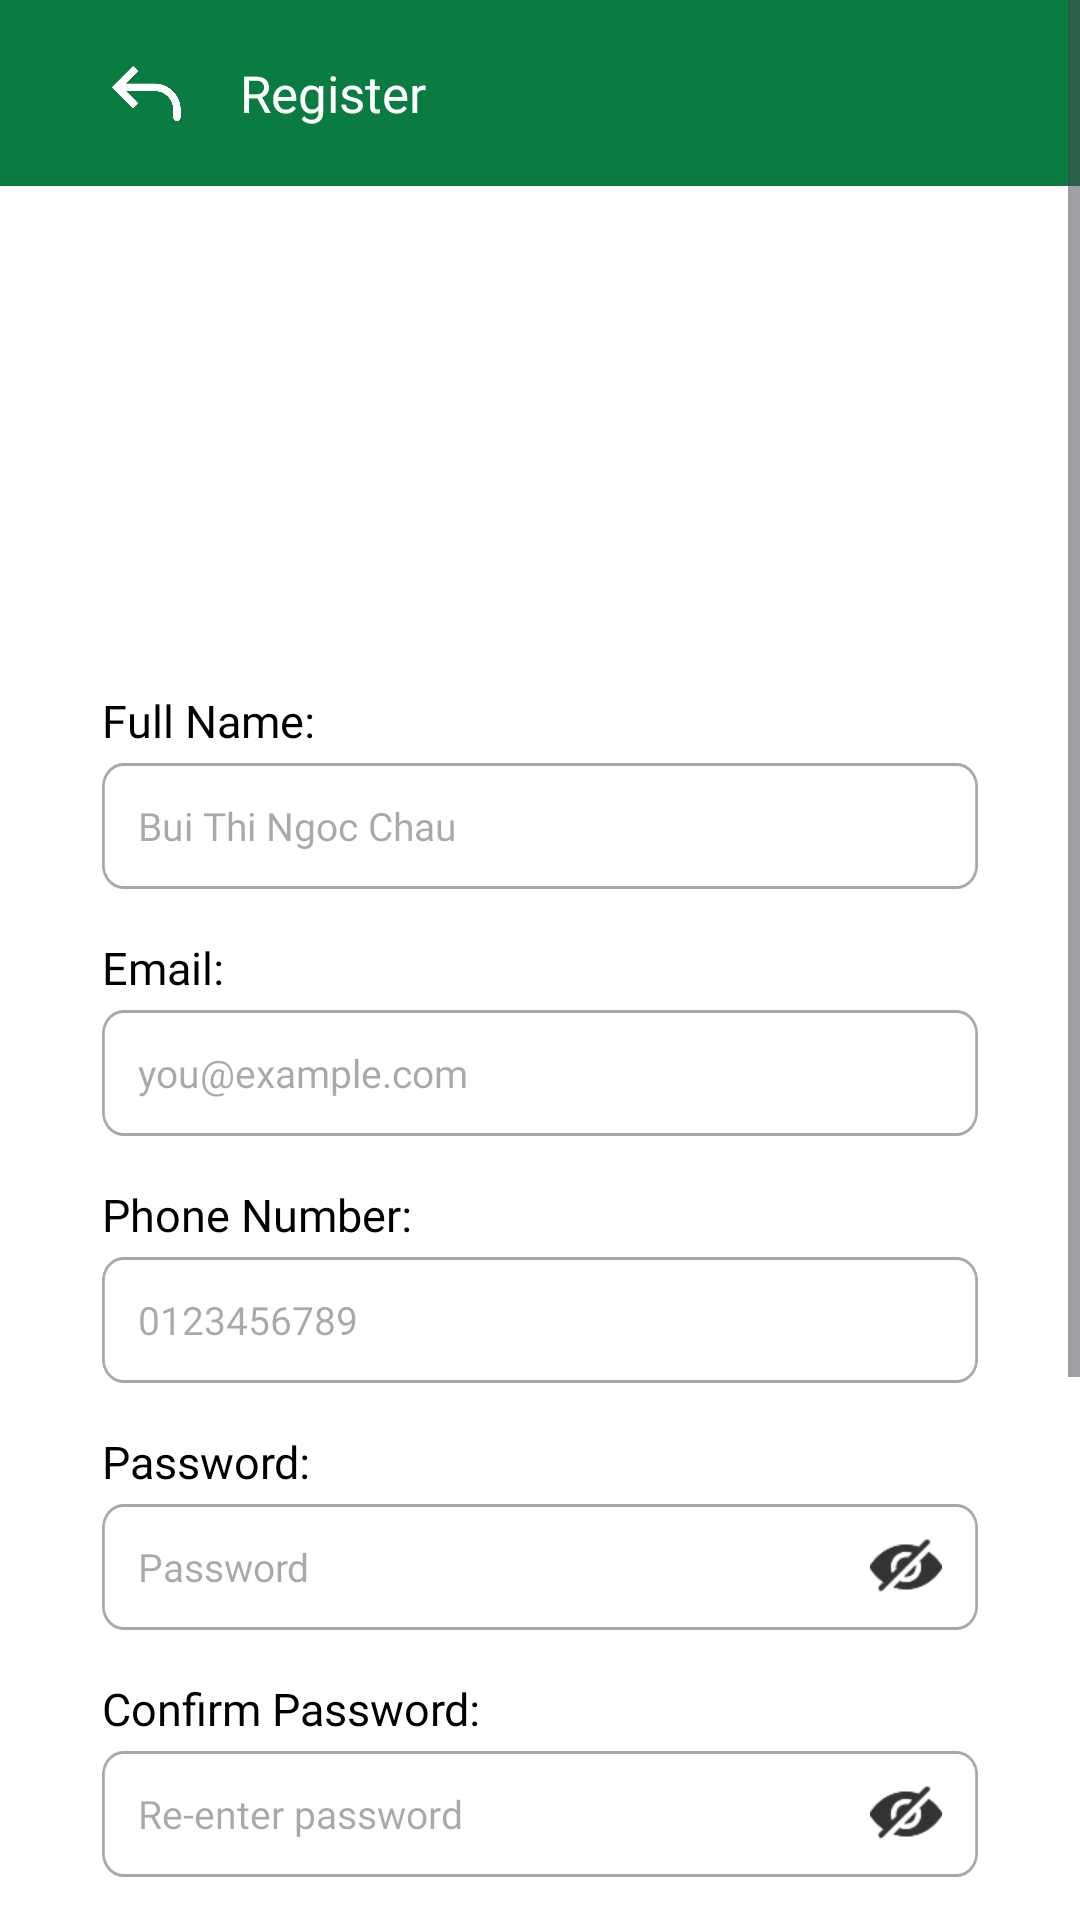

Locate icon controls on the screen. Image size 1080px x 1920px, boxes as (left=x1, top=y1, right=x2, bottom=y2).
back: (left=112, top=66, right=181, bottom=121)
eye close: (left=870, top=1539, right=942, bottom=1592), (left=870, top=1786, right=942, bottom=1839)
